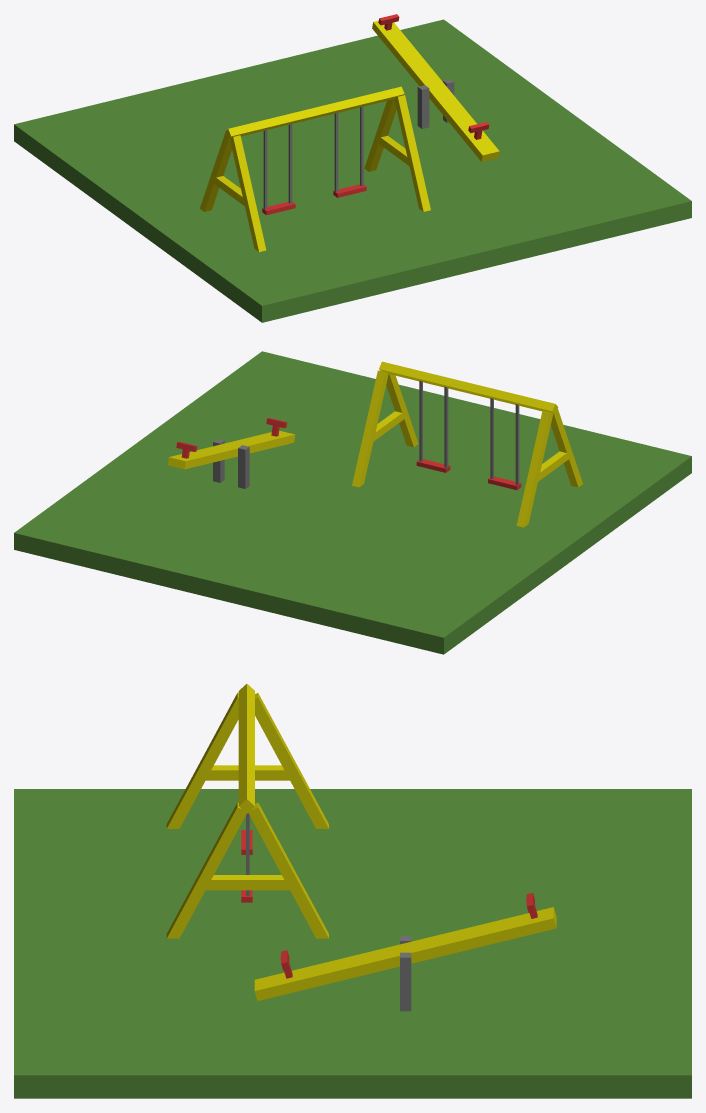
File: Park_Good.fbx
3 renders of one model, top to bottom at view 1: azimuth 30°, elevation 25°; view 2: azimuth 150°, elevation 25°; view 3: azimuth 270°, elevation 25°, orthographic. The views are drawn at different scales.
Visible parts, largest first — view 1: Park_Good; view 2: Park_Good; view 3: Park_Good.
Boxes of the visible parts, x1,y1,x2,y2 form: Park_Good: [14, 14, 691, 322]; Park_Good: [14, 351, 691, 654]; Park_Good: [14, 684, 691, 1098].
Bounding box in the file's own units: 5.79 × 1.55 × 5.79.
